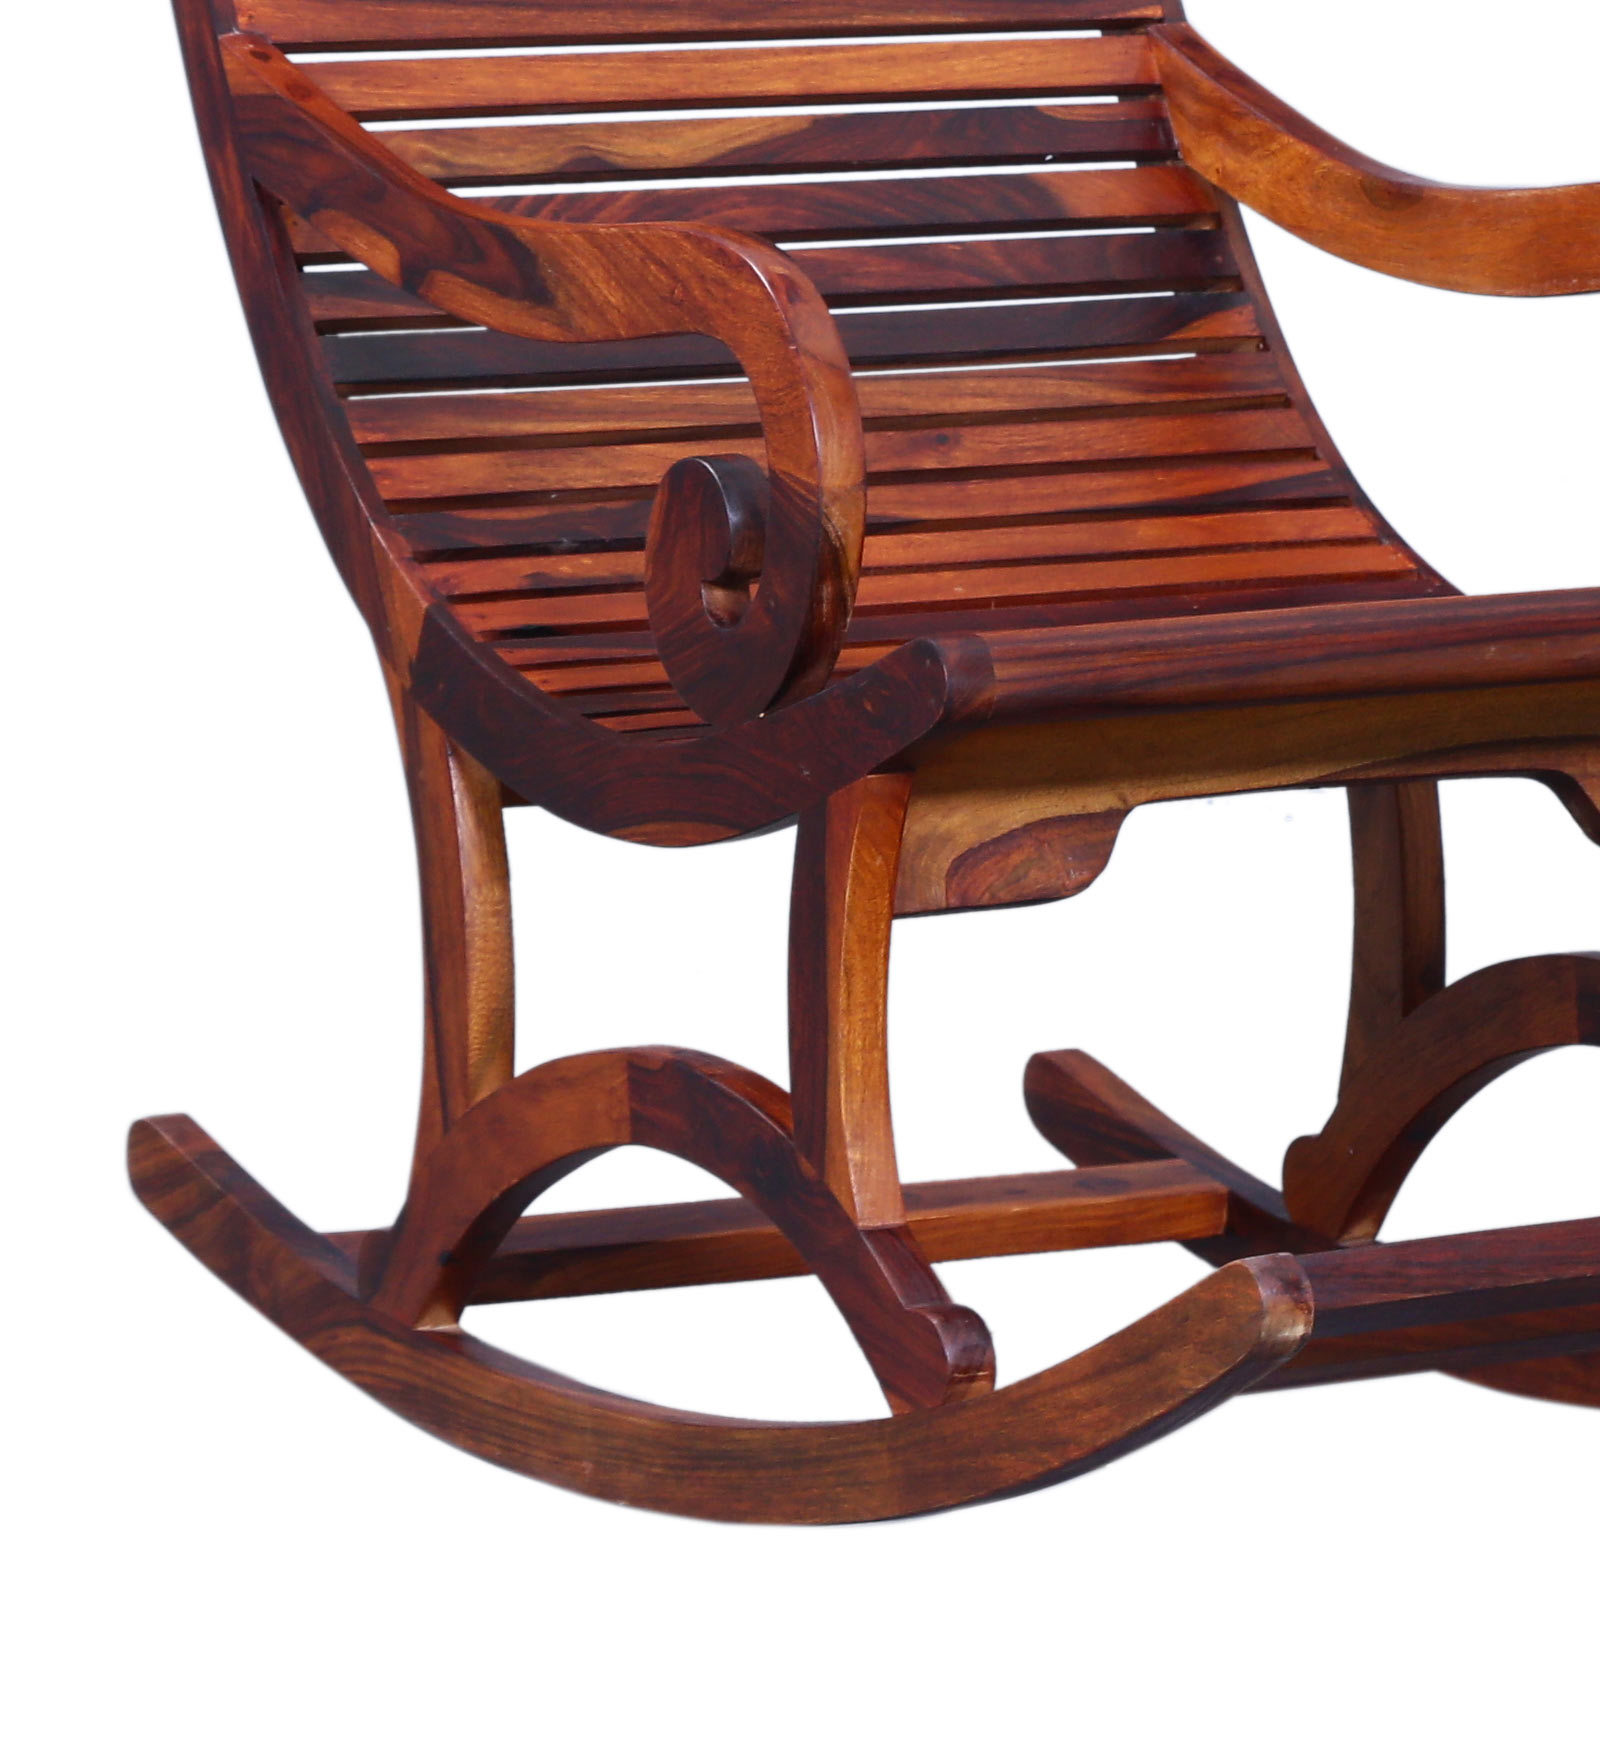Wellesley Rocking Chair in Honey Oak Finish by Amberville: (92, 12, 1600, 1608)
